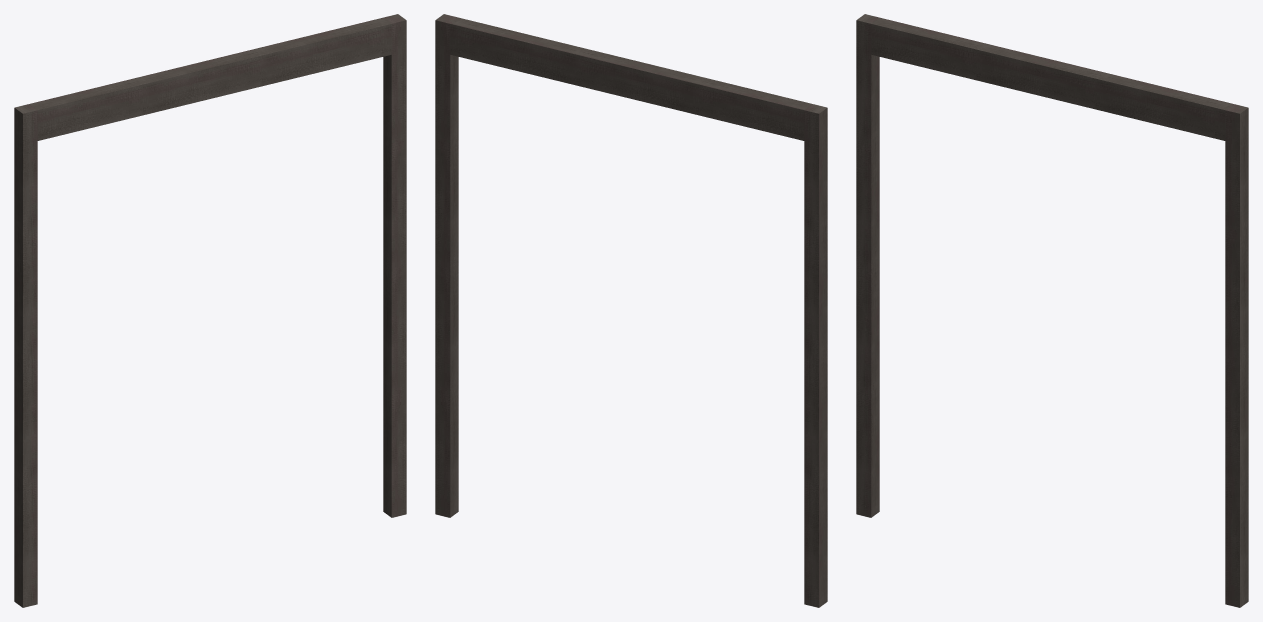
Rendered from es-flame_h2400-w1800_karacha.fbx.
3 renders of one model, left to right at view 1: azimuth 30°, elevation 25°; view 2: azimuth 150°, elevation 25°; view 3: azimuth 330°, elevation 25°, orthographic.
Parts seen in each view (by area): view 1: es-flame_h2400-w1800_karacha; view 2: es-flame_h2400-w1800_karacha; view 3: es-flame_h2400-w1800_karacha.
Part boxes in pixels (x1,y1,x2,y2): es-flame_h2400-w1800_karacha: (14, 14, 406, 607); es-flame_h2400-w1800_karacha: (435, 14, 827, 607); es-flame_h2400-w1800_karacha: (856, 14, 1248, 607).
Bounding box in the file's own units: 195 × 240 × 7.5.
1 material, 1 textured.
